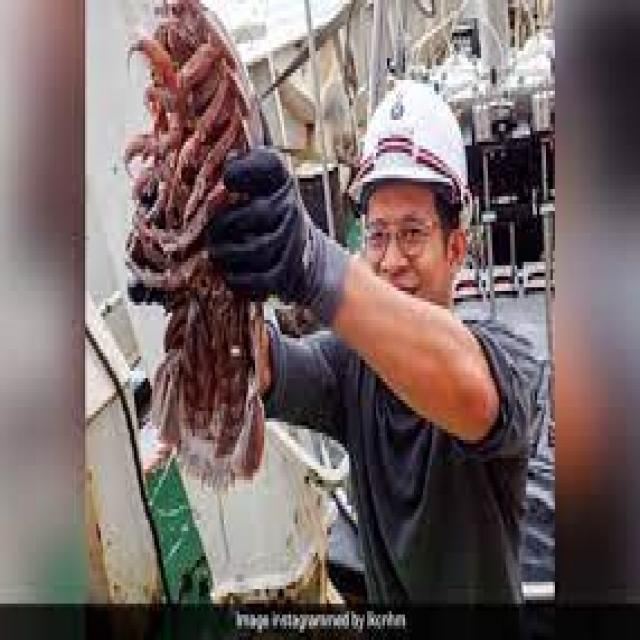Cockroach: (104, 0, 292, 521)
